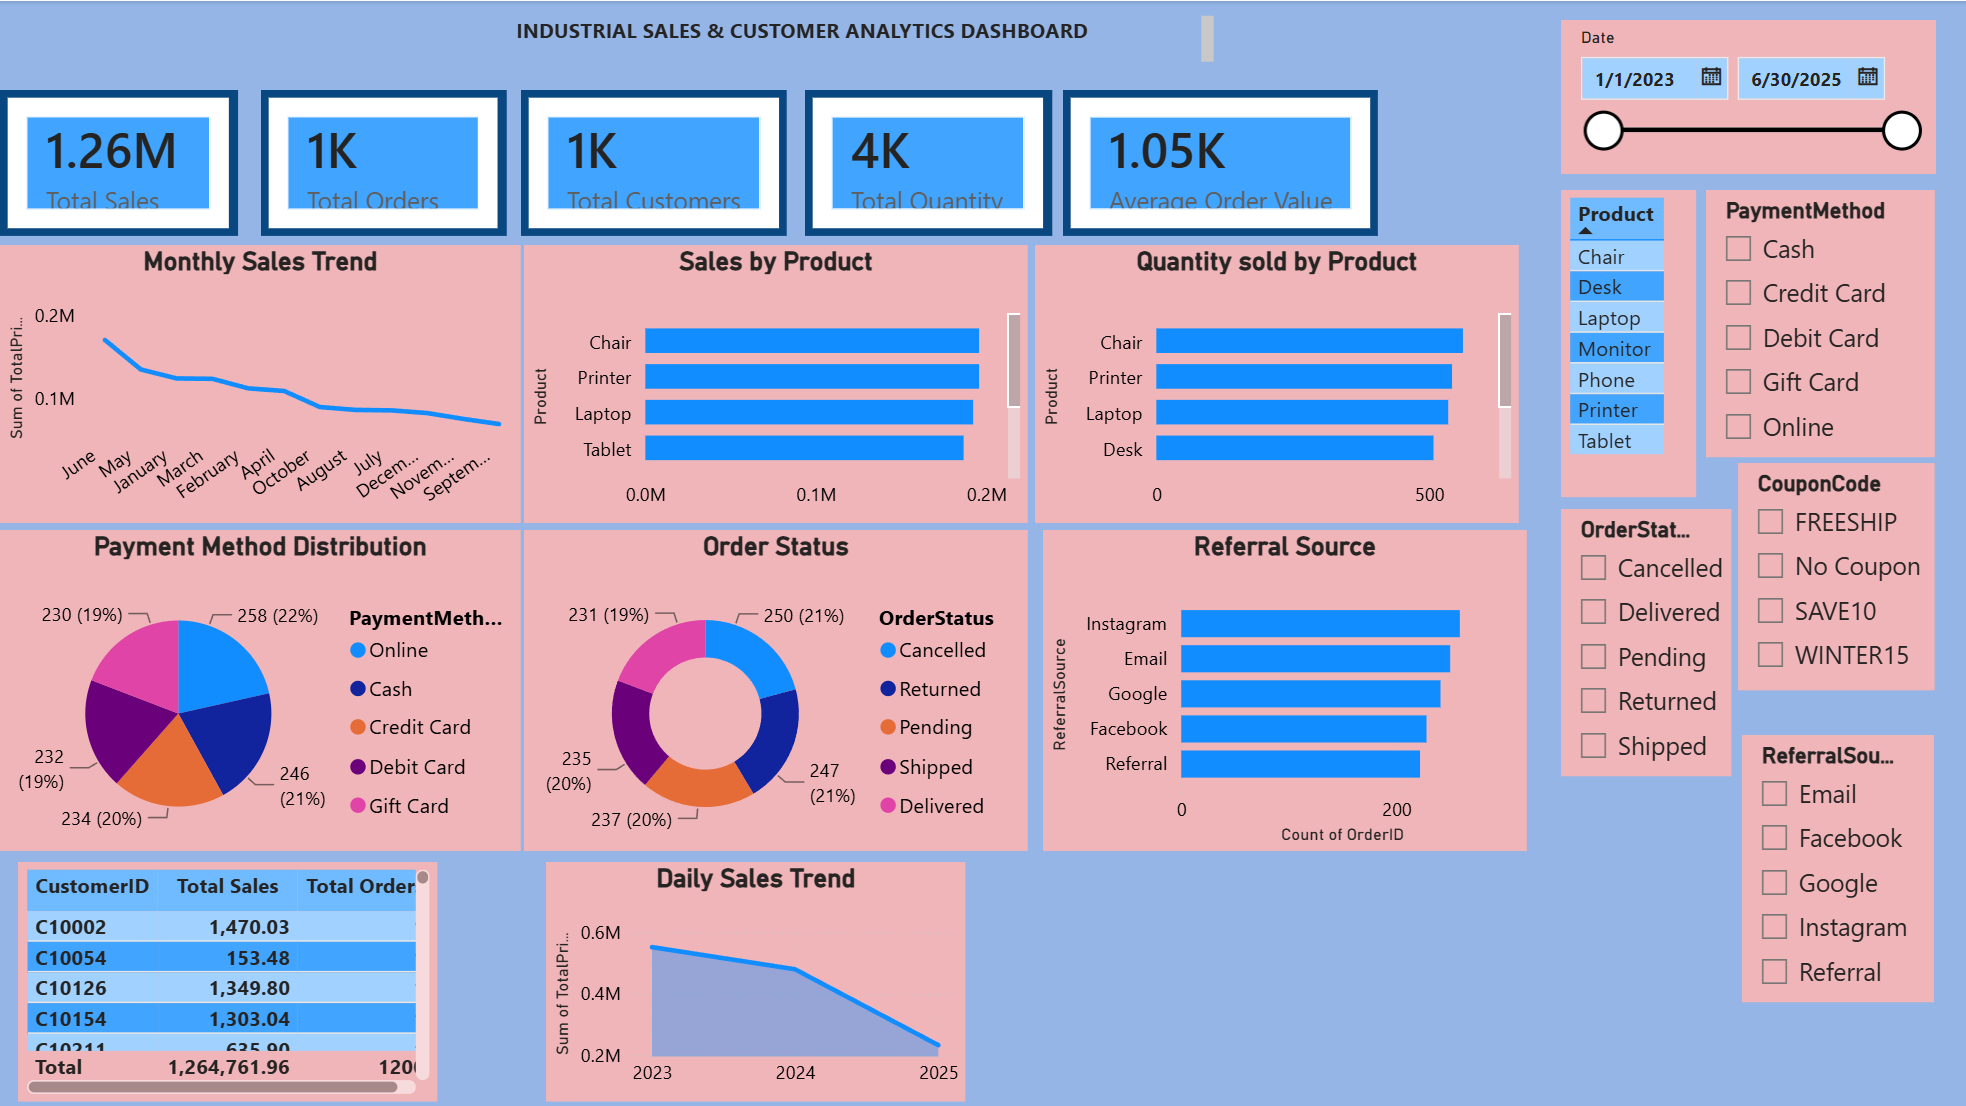

This screenshot's page, from the dashboard's own definition file:
{"tool":"powerbi","page":{"name":"Page 1","canvas":[1280,720],"ordinal":0},"visuals":[{"type":"cardVisual","fields":{"Data":["in.Total Sales"]},"box":[0,57.9,155,95.1],"z":0},{"type":"cardVisual","fields":{"Data":["in.Total Orders"]},"box":[169.9,57.9,159.5,95.1],"z":1000},{"type":"cardVisual","fields":{"Data":["in.Total Customers"]},"box":[339.2,57.9,173.2,95.1],"z":2000},{"type":"cardVisual","fields":{"Data":["in.Total Quantity"]},"box":[524.1,57.9,160.8,95.1],"z":3000},{"type":"cardVisual","fields":{"Data":["in.Average Order Value"]},"box":[692.1,57.9,205.1,95.1],"z":4000},{"type":"lineChart","title":"Monthly Sales Trend","fields":{"Category":["in.Month"],"Y":["Sum(in.TotalPrice)"]},"box":[0,158.9,339.2,181],"z":5000},{"type":"barChart","title":"Sales by Product","fields":{"Y":["Sum(in.TotalPrice)"],"Category":["in.Product"]},"box":[341.2,158.9,328.1,181],"z":6000},{"type":"barChart","title":" Quantity sold by Product","fields":{"Category":["in.Product"],"Y":["in.Total Quantity"]},"box":[673.9,158.9,315.1,181],"z":7000},{"type":"pieChart","title":"Payment Method Distribution","fields":{"Category":["in.PaymentMethod"],"Y":["CountNonNull(in.OrderID)"]},"box":[0,344.4,339.2,209],"z":8000},{"type":"donutChart","title":"Order Status","fields":{"Category":["in.OrderStatus"],"Y":["CountNonNull(in.OrderID)"]},"box":[341.2,344.4,328.1,209],"z":9000},{"type":"barChart","title":"Referral Source","fields":{"Category":["in.ReferralSource"],"Y":["CountNonNull(in.OrderID)"]},"box":[679.1,344.4,315.1,209],"z":10000},{"type":"tableEx","fields":{"Values":["in.CustomerID","in.Total Sales","in.Total Orders"]},"box":[11.7,560.6,273.4,155.6],"z":11000},{"type":"areaChart","title":"Daily Sales Trend","fields":{"Category":["in.Date.Variation.Date Hierarchy.Year","in.Date.Variation.Date Hierarchy.Quarter","in.Date.Variation.Date Hierarchy.Month","in.Date.Variation.Date Hierarchy.Day"],"Y":["Sum(in.TotalPrice)"]},"box":[355.5,560.6,273.4,155.6],"z":12000},{"type":"slicer","fields":{"Values":["in.Date"]},"box":[1016.3,12.4,243.7,99.8],"z":12001},{"type":"slicer","fields":{"Values":["in.PaymentMethod"]},"box":[1110.7,123.1,149.1,173.8],"z":12002},{"type":"tableEx","fields":{"Values":["in.Product"]},"box":[1016.3,123.1,88.4,199.6],"z":12003},{"type":"slicer","fields":{"Values":["in.OrderStatus"]},"box":[1016.3,330.7,111.2,173.9],"z":12004},{"type":"slicer","fields":{"Values":["in.CouponCode"]},"box":[1131.6,300.8,128.3,148.2],"z":12005},{"type":"slicer","fields":{"Values":["in.ReferralSource"]},"box":[1134.2,477.9,125.4,173.9],"z":12006},{"type":"textbox","box":[257.2,4.6,537.8,41.7],"z":12007}]}

Visuals, with their boxes in screenshot pixels (x1, y1, x2, y2), scaled from the page's 1280x720 canvas onto the 1966x1106 screenshot:
cardVisual - in.Total Sales: (left=0, top=89, right=238, bottom=235)
cardVisual - in.Total Orders: (left=261, top=89, right=506, bottom=235)
cardVisual - in.Total Customers: (left=521, top=89, right=787, bottom=235)
cardVisual - in.Total Quantity: (left=805, top=89, right=1052, bottom=235)
cardVisual - in.Average Order Value: (left=1063, top=89, right=1378, bottom=235)
"Monthly Sales Trend" lineChart: (left=0, top=244, right=521, bottom=522)
"Sales by Product" barChart: (left=524, top=244, right=1028, bottom=522)
" Quantity sold by Product" barChart: (left=1035, top=244, right=1519, bottom=522)
"Payment Method Distribution" pieChart: (left=0, top=529, right=521, bottom=850)
"Order Status" donutChart: (left=524, top=529, right=1028, bottom=850)
"Referral Source" barChart: (left=1043, top=529, right=1527, bottom=850)
tableEx - in.CustomerID x in.Total Sales: (left=18, top=861, right=438, bottom=1100)
"Daily Sales Trend" areaChart: (left=546, top=861, right=966, bottom=1100)
slicer - in.Date: (left=1561, top=19, right=1935, bottom=172)
slicer - in.PaymentMethod: (left=1706, top=189, right=1935, bottom=456)
tableEx - in.Product: (left=1561, top=189, right=1697, bottom=496)
slicer - in.OrderStatus: (left=1561, top=508, right=1732, bottom=775)
slicer - in.CouponCode: (left=1738, top=462, right=1935, bottom=690)
slicer - in.ReferralSource: (left=1742, top=734, right=1935, bottom=1001)
textbox: (left=395, top=7, right=1221, bottom=71)
